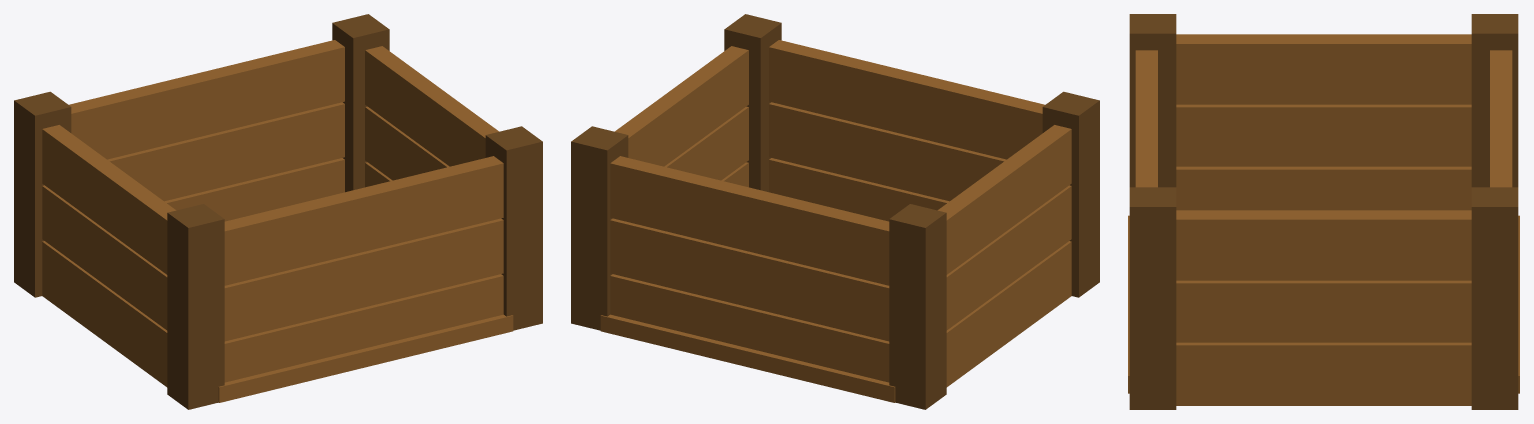
The model's file is Proxy_Crate_B01.fbx.
3 renders of one model, left to right at view 1: azimuth 30°, elevation 25°; view 2: azimuth 150°, elevation 25°; view 3: azimuth 270°, elevation 25°, orthographic. The views are drawn at different scales.
Parts seen in each view (by area): view 1: Proxy_Crate_B01; view 2: Proxy_Crate_B01; view 3: Proxy_Crate_B01.
Boxes of the visible parts, left/top/right/bottom form: Proxy_Crate_B01: left=14, top=14, right=542, bottom=409; Proxy_Crate_B01: left=571, top=14, right=1099, bottom=409; Proxy_Crate_B01: left=1128, top=14, right=1519, bottom=409.
Bounding box in the file's own units: 313 × 269 × 154.
